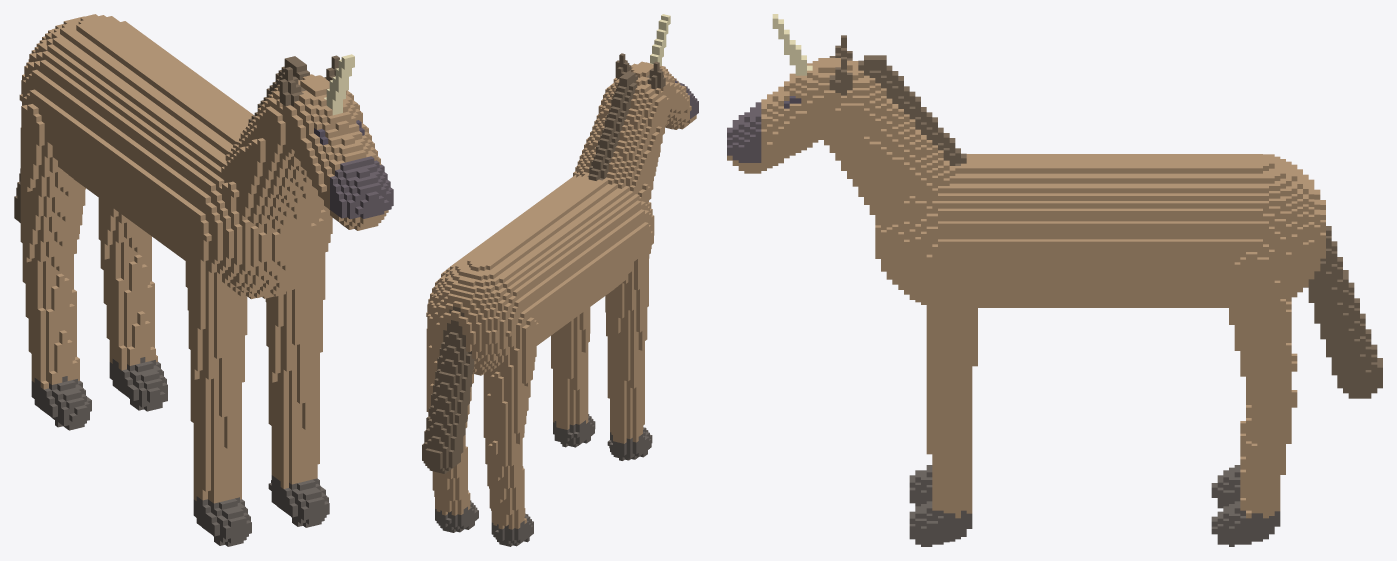
The model's file is unicorn.glb.
3 views of the same model, side by side, from view 1: azimuth 30°, elevation 25°; view 2: azimuth 150°, elevation 25°; view 3: azimuth 270°, elevation 25° (orthographic). The views are drawn at different scales.
Parts seen in each view (by area): view 1: item; view 2: item; view 3: item.
Boxes of the visible parts, <box> form: item: <box>14,14,393,546</box>; item: <box>422,14,698,546</box>; item: <box>727,14,1382,546</box>.
Bounding box in the file's own units: 26 × 98 × 115.
